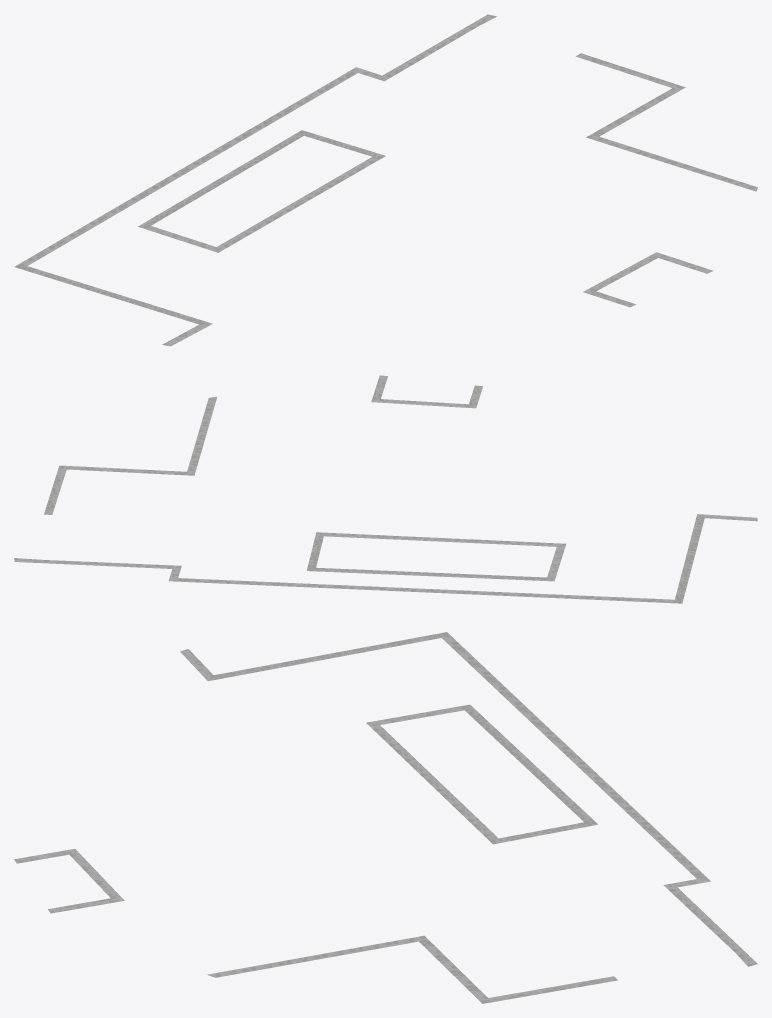
The model's file is kd_stage_136599_16_12.glb.
The picture shows the model from 3 angles, top to bottom: view 1: azimuth 30°, elevation 25°; view 2: azimuth 150°, elevation 25°; view 3: azimuth 270°, elevation 25°; orthographic projection. The views are drawn at different scales.
Visible parts, largest first — view 1: kd_stage_136599_16_12; view 2: kd_stage_136599_16_12; view 3: kd_stage_136599_16_12.
Part boxes in pixels (x1,y1,x2,y2): kd_stage_136599_16_12: (14,14,757,346); kd_stage_136599_16_12: (14,375,757,603); kd_stage_136599_16_12: (14,632,757,1003).
Size of the model in its own units: 49.18 by 0 by 41.57.
Materials: 1 (1 with a texture image).
